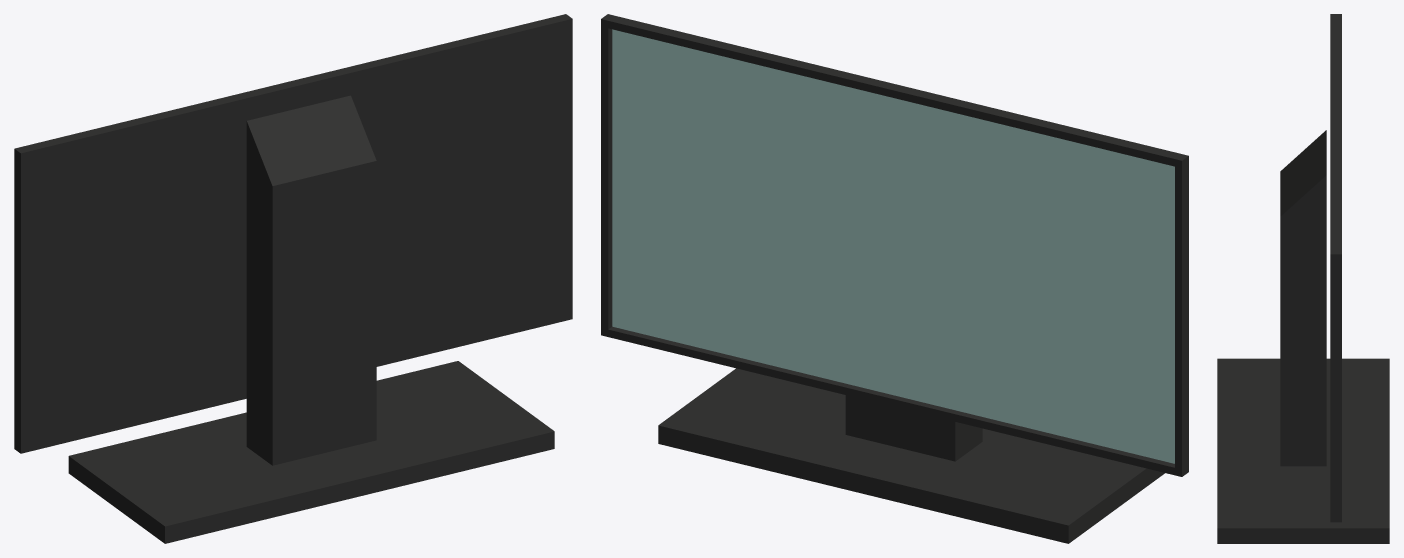
File: Monitor.fbx
3 renders of one model, left to right at view 1: azimuth 30°, elevation 25°; view 2: azimuth 150°, elevation 25°; view 3: azimuth 270°, elevation 25°, orthographic. The views are drawn at different scales.
Parts seen in each view (by area): view 1: Monitor.001; view 2: Monitor.001; view 3: Monitor.001.
Boxes of the visible parts, box(x1,y1,x2,y2) form: Monitor.001: box(14, 14, 572, 543); Monitor.001: box(601, 14, 1188, 543); Monitor.001: box(1217, 14, 1389, 543).
Size of the model in its own units: 0.7749 by 0.2347 by 0.4885.
